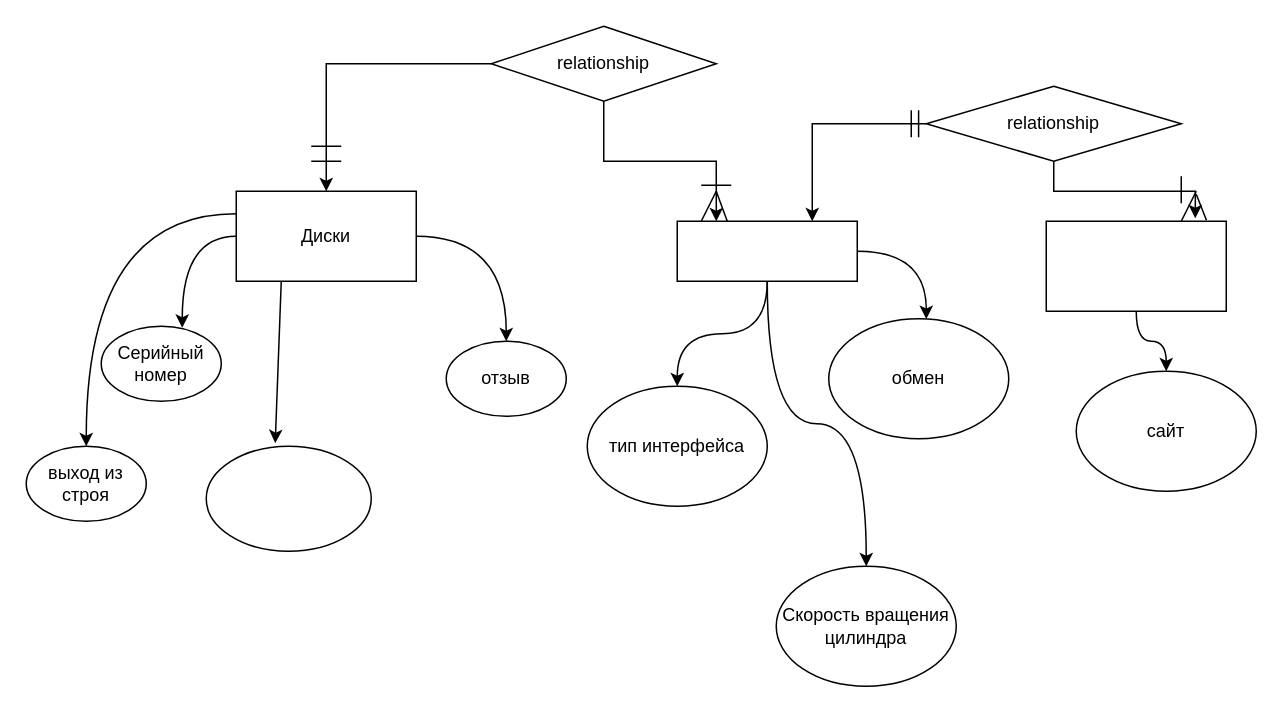
This 1283x713 diagram has some shape labels left out. The shapes that lost their labels are listed below. From the top down, each one's centre as x and y in pixels, then its label:
At point 766,250: "модели".
At point 1135,265: "производитель".
At point 288,498: "приобретение".
